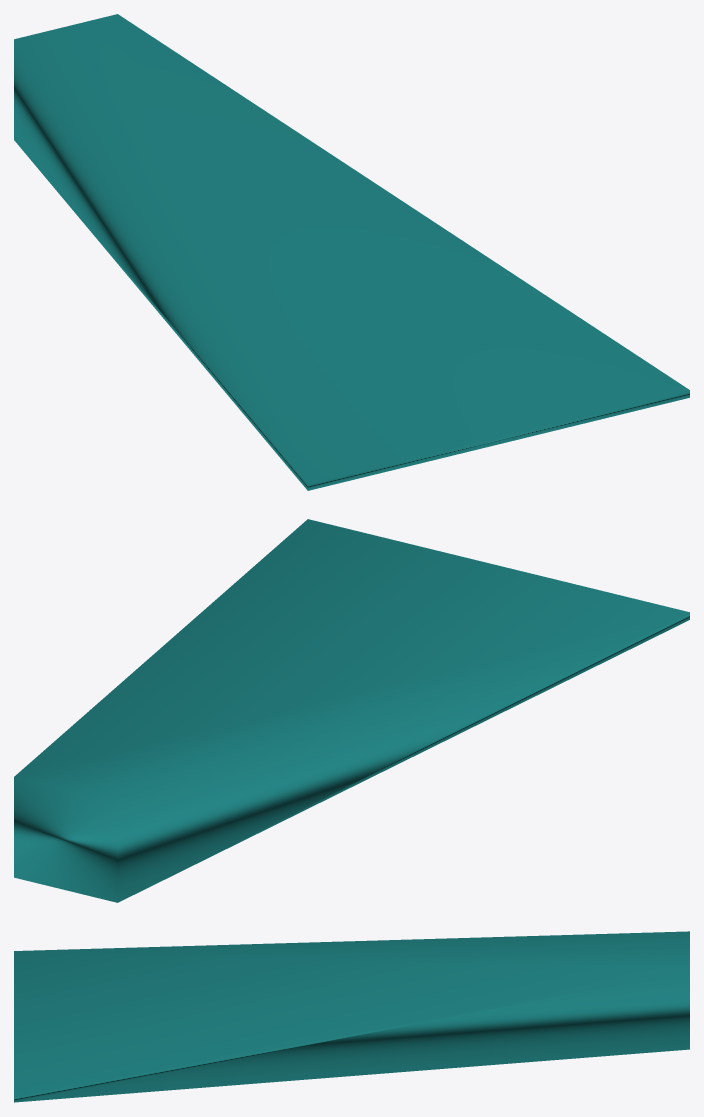
File: flippers_collider.fbx
The picture shows the model from 3 angles, top to bottom: view 1: azimuth 30°, elevation 25°; view 2: azimuth 150°, elevation 25°; view 3: azimuth 270°, elevation 25°; orthographic projection. The views are drawn at different scales.
Parts seen in each view (by area): view 1: flippers_collider; view 2: flippers_collider; view 3: flippers_collider.
Part boxes in pixels (<box>): flippers_collider: <box>14,14,689,490</box>; flippers_collider: <box>14,519,689,902</box>; flippers_collider: <box>14,931,689,1102</box>.
Size of the model in its own units: 27.84 by 7.01 by 54.66.
